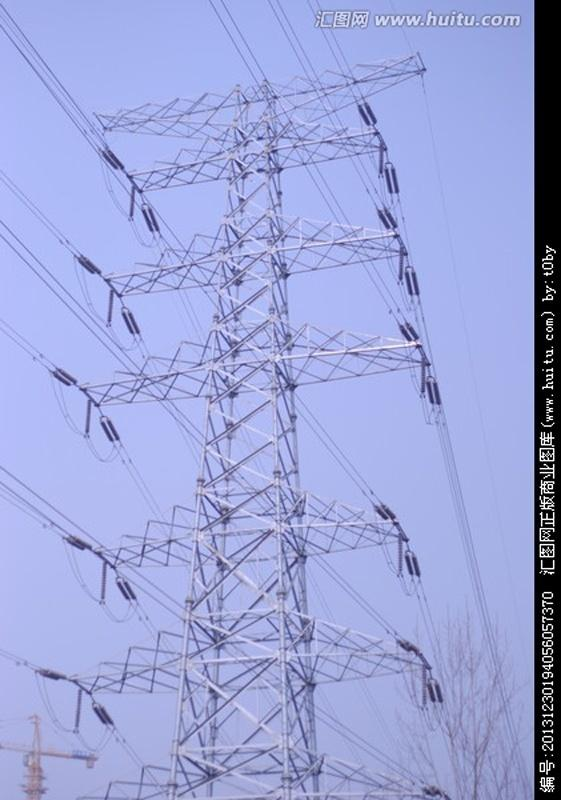power_tower: (76, 73, 460, 793)
